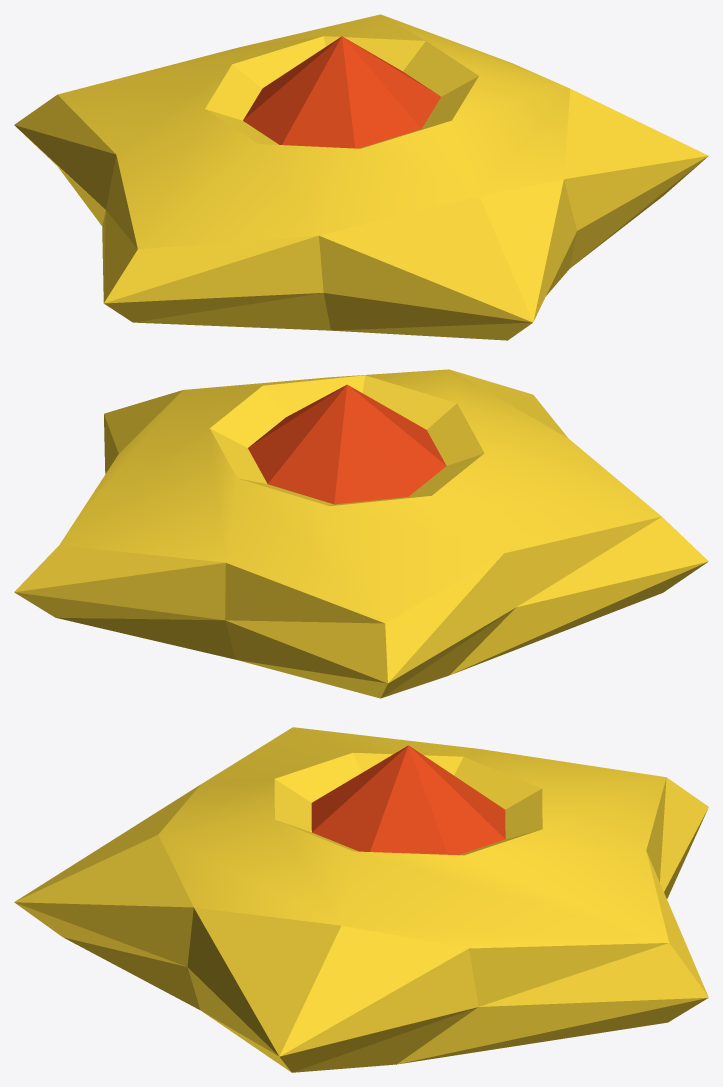
The model's file is fantasy_plant_066.fbx.
3 views of the same model, one above another, from view 1: azimuth 30°, elevation 25°; view 2: azimuth 150°, elevation 25°; view 3: azimuth 270°, elevation 25° (orthographic). The views are drawn at different scales.
Visible parts, largest first — view 1: fantasy_plant.066; view 2: fantasy_plant.066; view 3: fantasy_plant.066.
Boxes of the visible parts, x1=… form: fantasy_plant.066: x1=14, y1=14, x2=708, y2=340; fantasy_plant.066: x1=14, y1=369, x2=708, y2=698; fantasy_plant.066: x1=14, y1=727, x2=708, y2=1072.
Size of the model in its own units: 435 by 141 by 414.
1 material, 1 textured.
